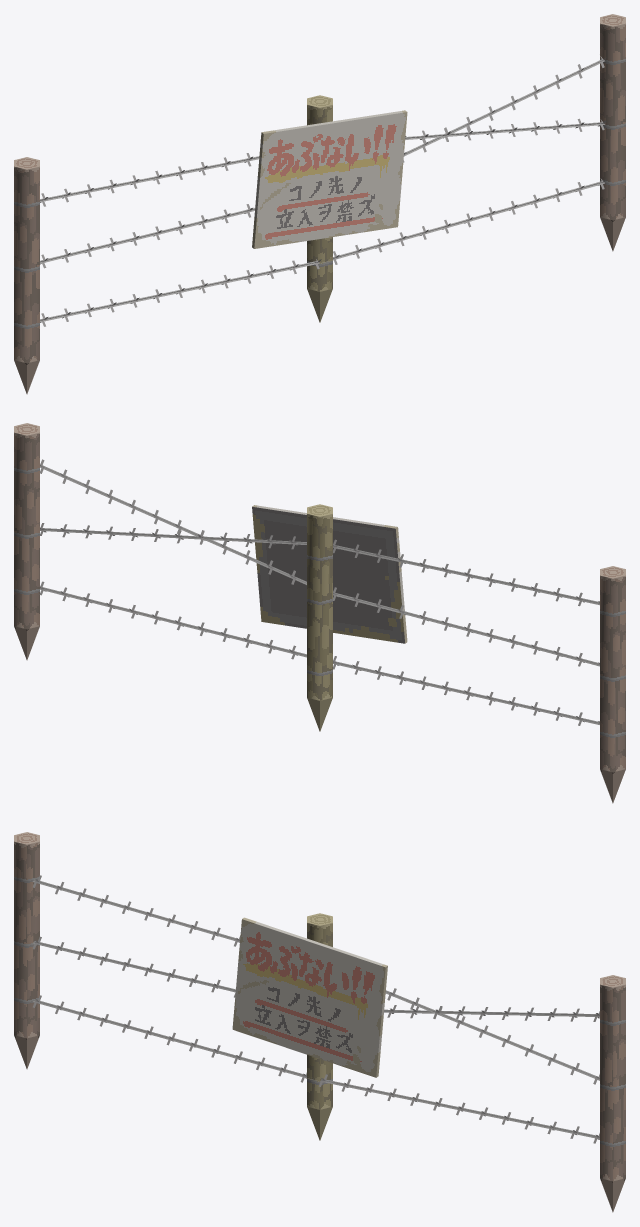
The model's file is 0454_No_Trespassing.glb.
3 views of the same model, one above another, from view 1: azimuth 30°, elevation 25°; view 2: azimuth 150°, elevation 25°; view 3: azimuth 330°, elevation 25° (orthographic).
Parts seen in each view (by area): view 1: part_0; view 2: part_0; view 3: part_0.
Part boxes in pixels (x1,y1,x2,y2): part_0: (14, 14, 625, 394); part_0: (14, 423, 625, 803); part_0: (14, 832, 625, 1212).
Size of the model in its own units: 3.97 by 1.44 by 0.1957.
Materials: 1 (1 with a texture image).
